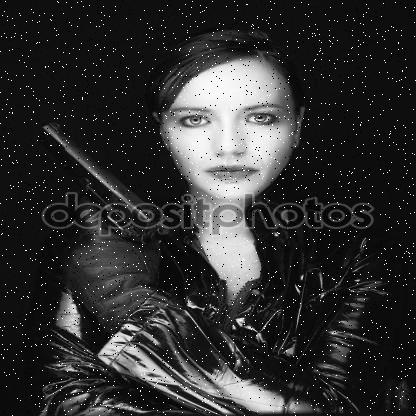pistol: (35, 121, 170, 247)
